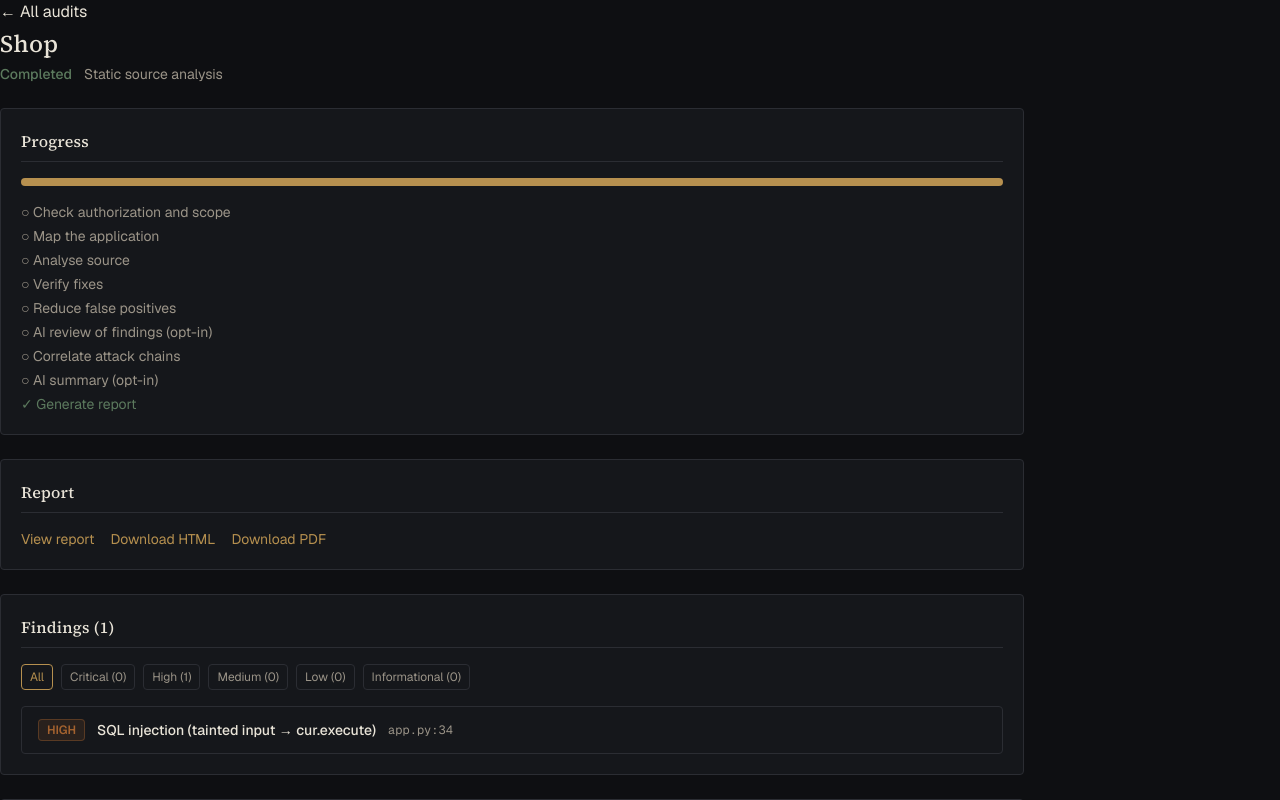
Test: AuditDetailPage › lets the owner mark a finding a false positive with a reason, and undo it
Click the text "SQL injection (tainted input → cur.execute)". click: (237, 730)
box: [97,720,376,740]
(page scrolled)
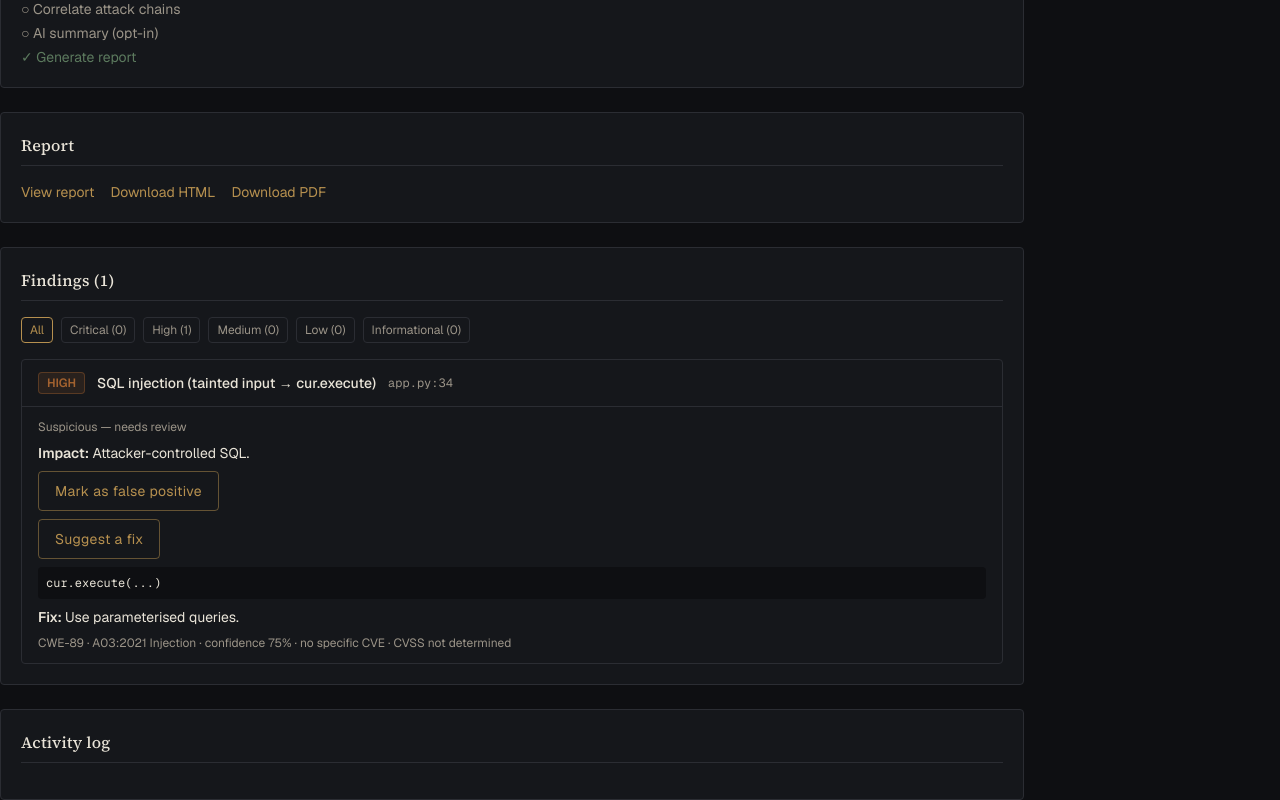
Click the button "Mark as false positive". click: (128, 491)
box: [38,471,219,511]
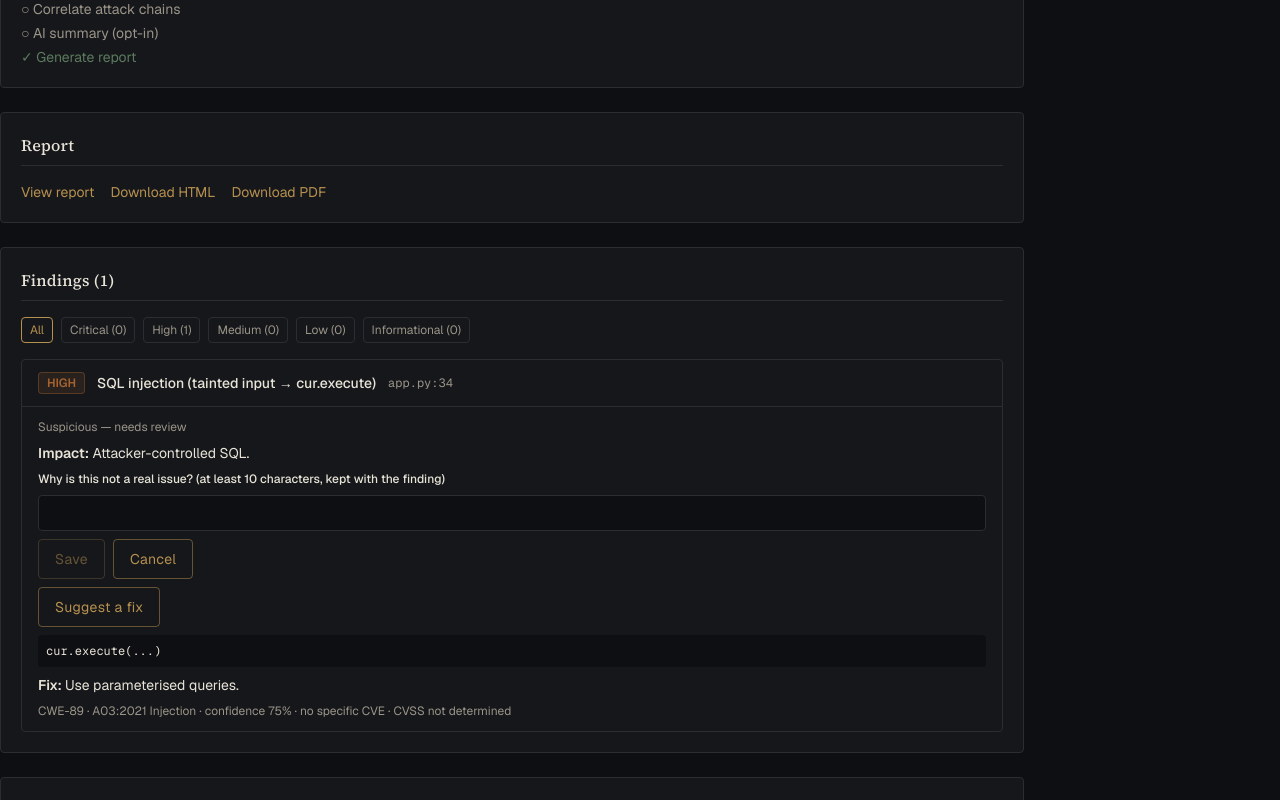
Check: the button "Save" is disabled, box [38,539,105,579]
Type "cache key only" into the field labelled "Why is this not a real issue". click: (512, 513)
box: [38,495,986,531]
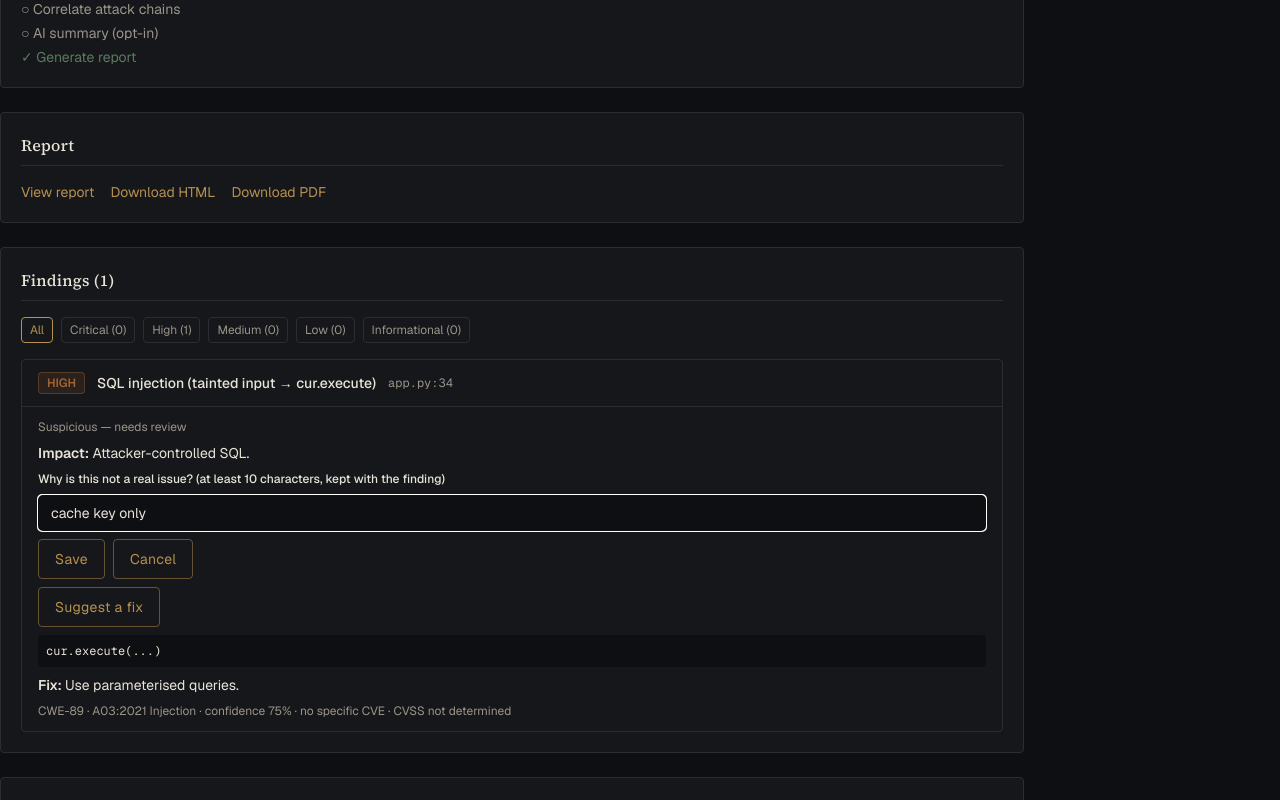
Click the button "Save". click: (71, 559)
box: [38,539,105,579]
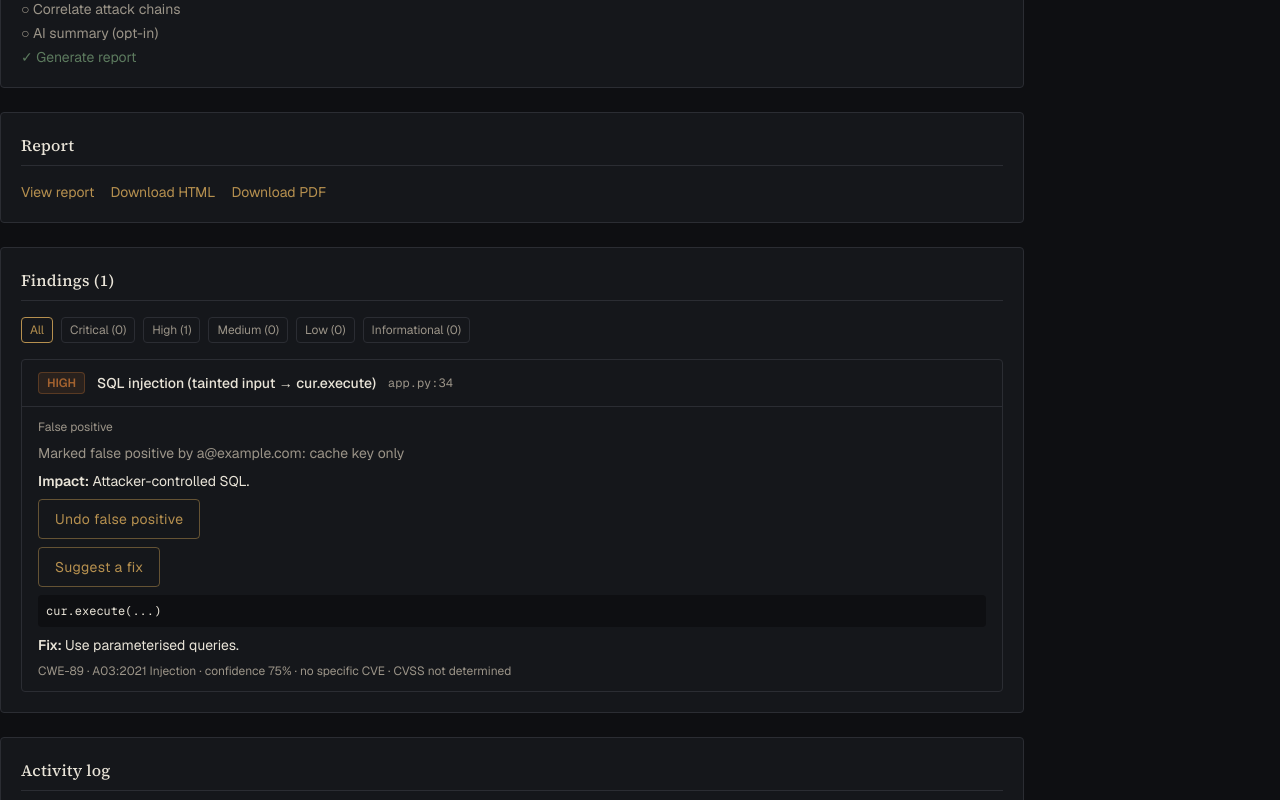
Click the button "Undo false positive". click: (119, 519)
box: [38,499,200,539]
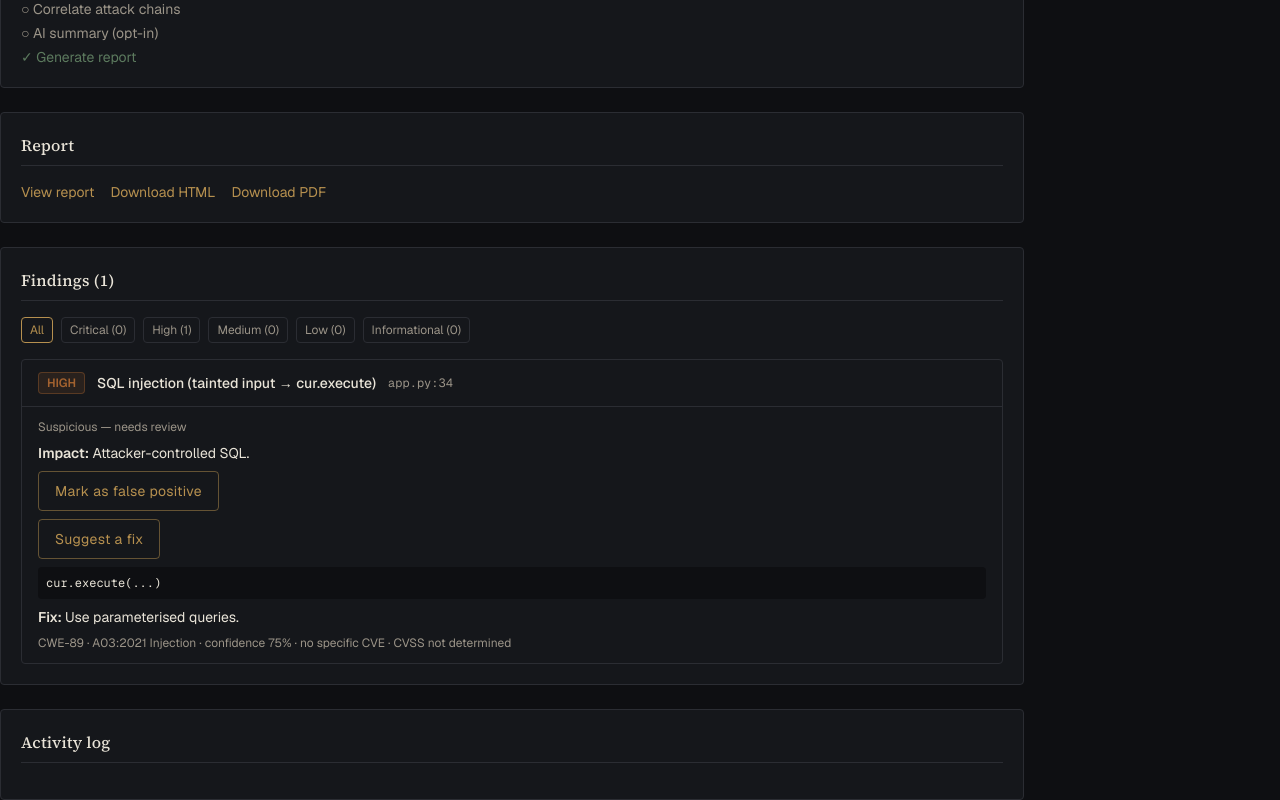
Check: the button "Mark as false positive" is shown, box [38,471,219,511]
